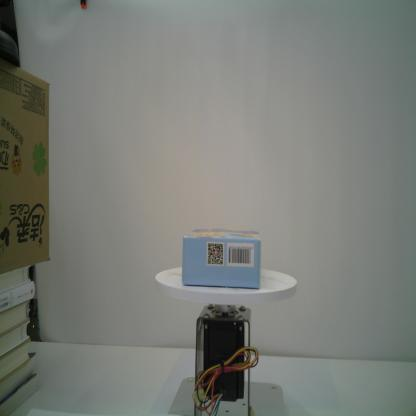Dessert: (182, 227, 261, 289)
